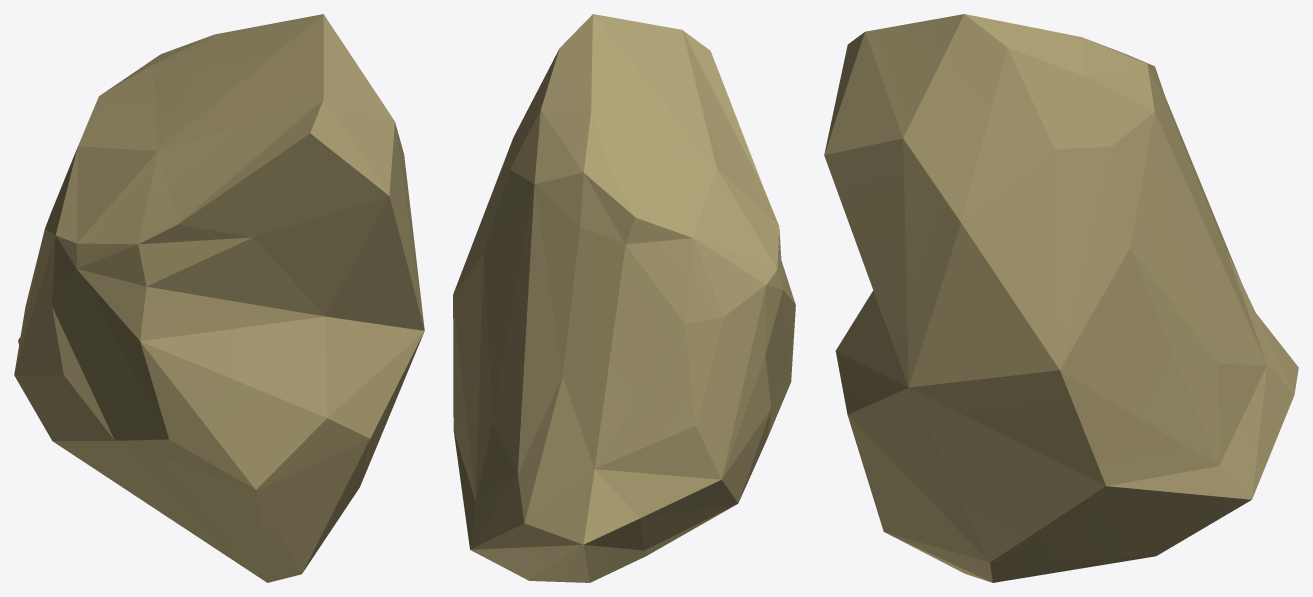
Rendered from SM_small_rock_26.fbx.
The picture shows the model from 3 angles, left to right: view 1: azimuth 30°, elevation 25°; view 2: azimuth 150°, elevation 25°; view 3: azimuth 270°, elevation 25°; orthographic projection. The views are drawn at different scales.
Parts seen in each view (by area): view 1: small_rock_26; view 2: small_rock_26; view 3: small_rock_26.
Part boxes in pixels (x1,y1,x2,y2): small_rock_26: (14,14,424,582); small_rock_26: (453,14,795,582); small_rock_26: (824,14,1298,582).
Bounding box in the file's own units: 88.14 × 143 × 104.
